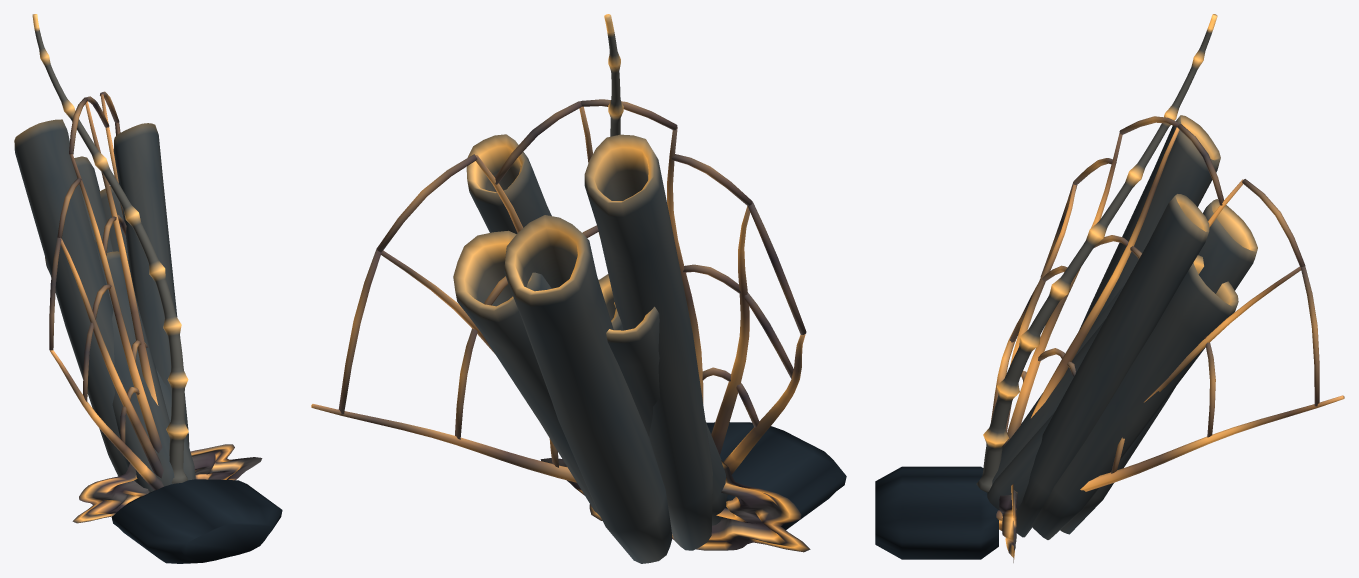
The model's file is jardin-corales.glb.
3 views of the same model, side by side, from view 1: azimuth 30°, elevation 25°; view 2: azimuth 150°, elevation 25°; view 3: azimuth 270°, elevation 25° (orthographic). The views are drawn at different scales.
Parts seen in each view (by area): view 1: tube, fan, whip, crust; view 2: tube, fan, crust, whip; view 3: tube, fan, whip, crust.
Part boxes in pixels (box(x1,y1,x2,y2)): tube: box(14, 119, 195, 492); fan: box(49, 91, 282, 563); whip: box(32, 14, 188, 483); crust: box(72, 444, 262, 523); tube: box(453, 134, 727, 563); fan: box(311, 99, 846, 529); crust: box(540, 458, 810, 552); whip: box(604, 14, 623, 136); tube: box(987, 115, 1257, 539); fan: box(875, 116, 1344, 559); whip: box(976, 14, 1217, 492); crust: box(996, 484, 1017, 562).
Size of the model in its own units: 4.13 by 8.29 by 7.02.
